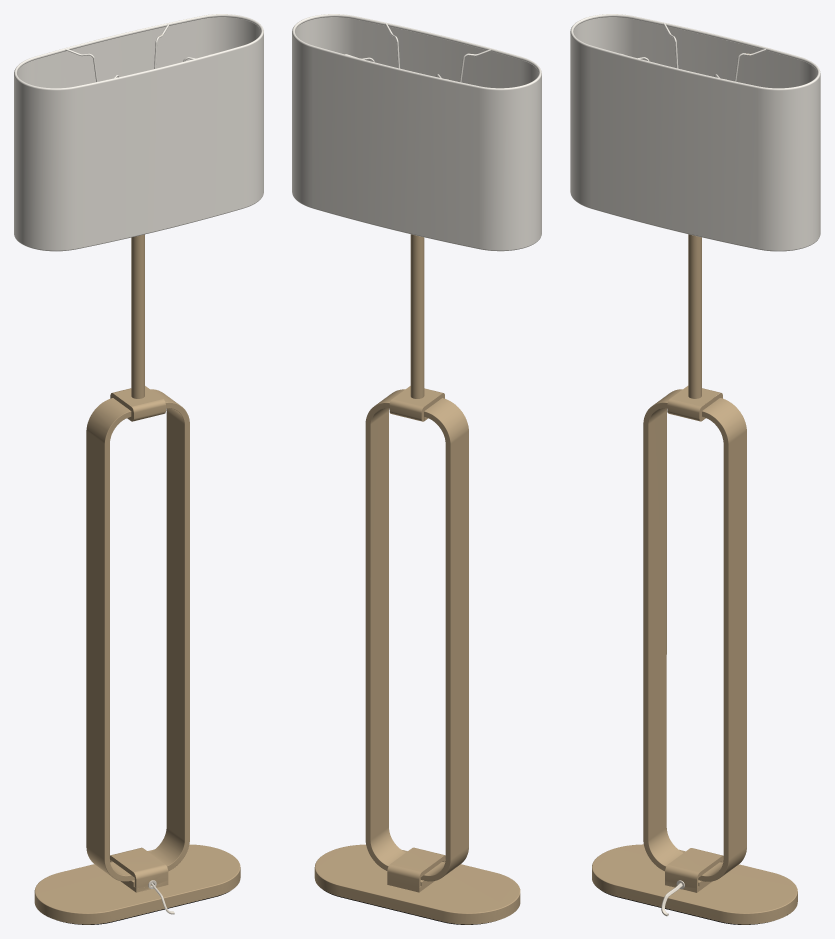
Rendered from UPPVIND Floor Lamp.glb.
The picture shows the model from 3 angles, left to right: view 1: azimuth 30°, elevation 25°; view 2: azimuth 150°, elevation 25°; view 3: azimuth 330°, elevation 25°; orthographic projection.
Parts seen in each view (by area): view 1: 50483152-UPPVIND001; view 2: 50483152-UPPVIND001; view 3: 50483152-UPPVIND001.
Boxes of the visible parts, bbox=[...] form: 50483152-UPPVIND001: bbox=[14, 14, 263, 924]; 50483152-UPPVIND001: bbox=[292, 14, 541, 924]; 50483152-UPPVIND001: bbox=[570, 14, 820, 924].
Size of the model in its own units: 0.4492 by 1.51 by 0.1906.
1 material, 1 textured.
